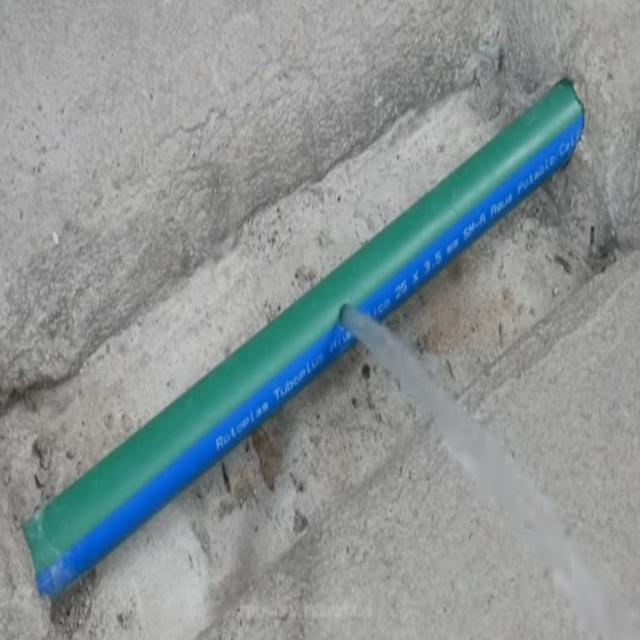leak: (340, 304, 640, 638)
